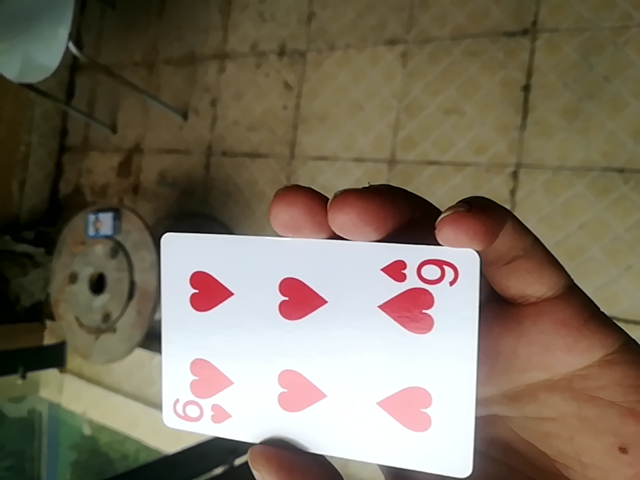hx 6: (158, 228, 491, 479)
